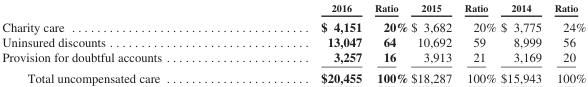table: (1, 1, 585, 84)
table column: (1, 1, 240, 84), (240, 1, 367, 84), (497, 1, 547, 84), (409, 1, 457, 84), (367, 1, 409, 84), (457, 1, 497, 84), (547, 1, 585, 84)
table column header: (1, 1, 585, 16)
table row: (1, 16, 585, 34), (1, 66, 585, 84), (1, 49, 585, 66), (1, 1, 585, 16), (1, 34, 585, 49)
